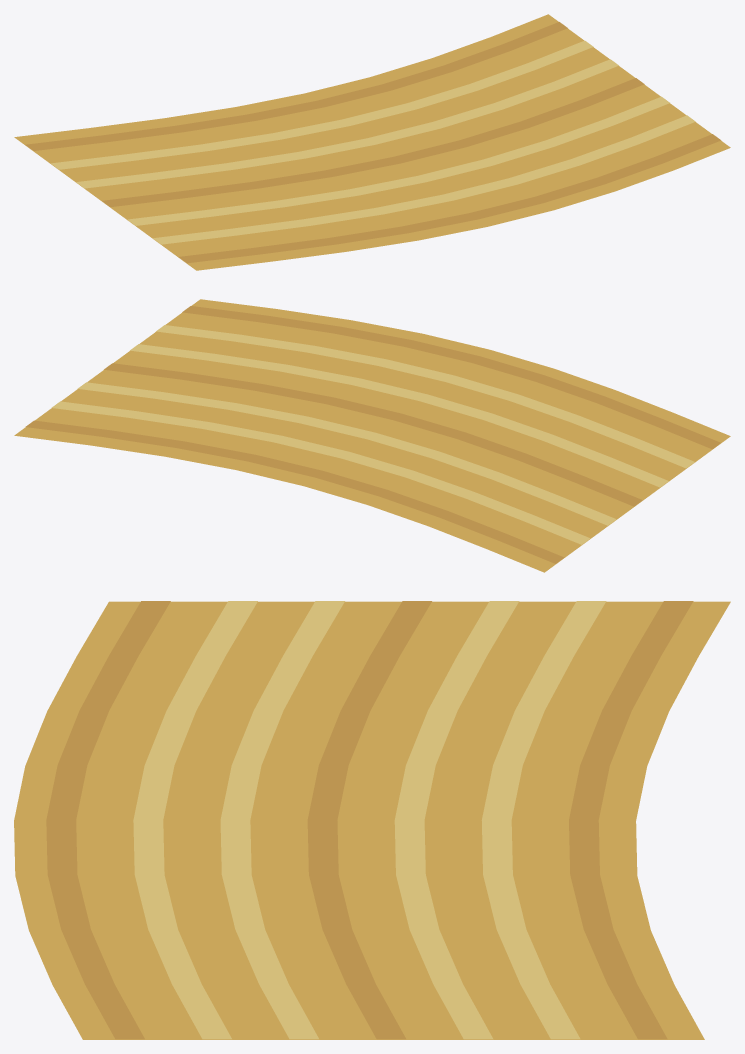
Rendered from Parcelle_3.fbx.
The picture shows the model from 3 angles, top to bottom: view 1: azimuth 30°, elevation 25°; view 2: azimuth 150°, elevation 25°; view 3: azimuth 270°, elevation 25°; orthographic projection. The views are drawn at different scales.
Parts seen in each view (by area): view 1: Parcelle_3; view 2: Parcelle_3; view 3: Parcelle_3.
Boxes of the visible parts, x1,y1,x2,y2 form: Parcelle_3: (14, 14, 730, 270); Parcelle_3: (14, 299, 730, 572); Parcelle_3: (14, 601, 730, 1039).
Bounding box in the file's own units: 2000 × 1.7 × 1383.
Materials: 1 (1 with a texture image).
